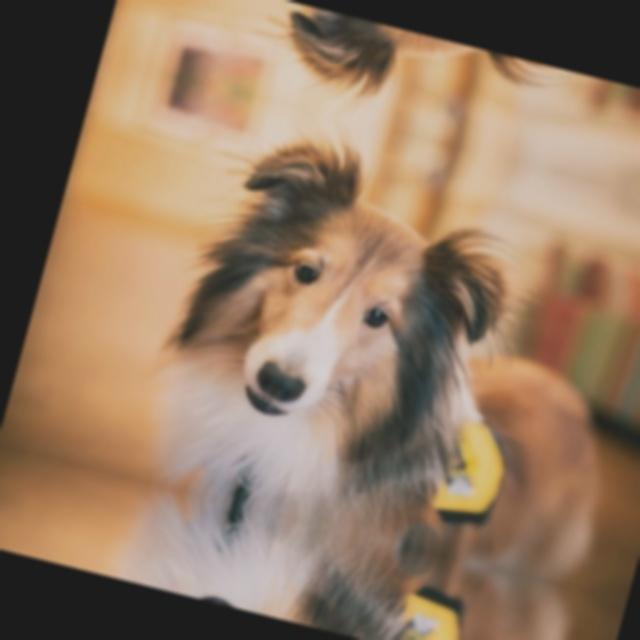dog: (100, 117, 568, 540), (67, 493, 468, 640), (208, 0, 604, 140)
